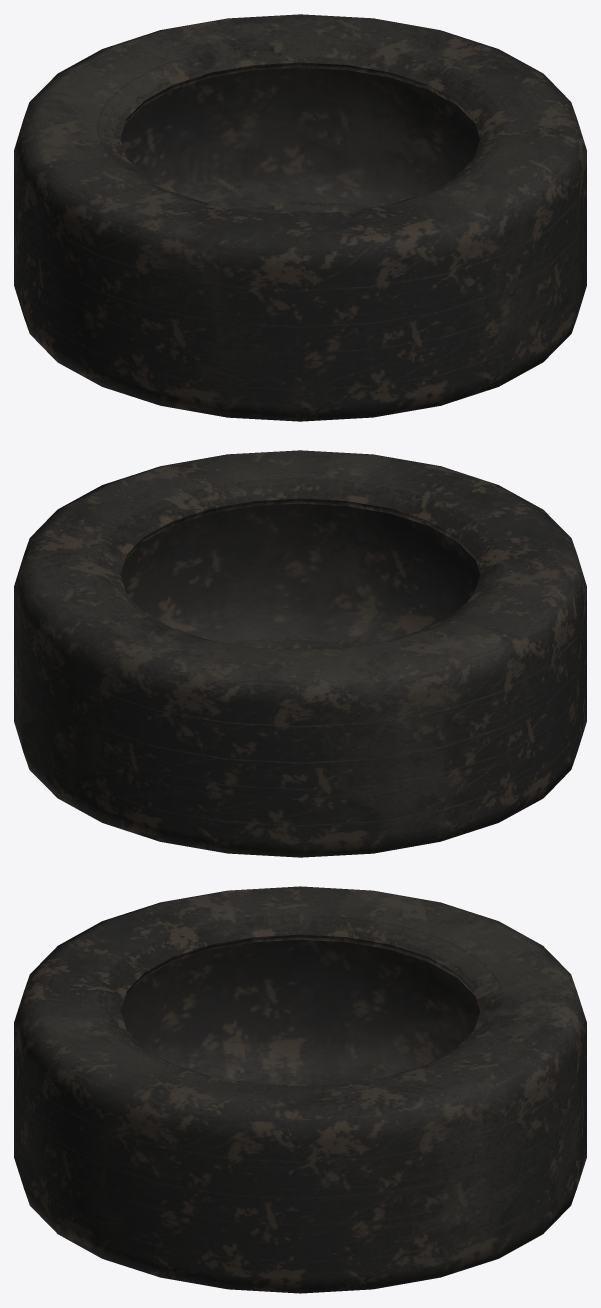
File: TrTireA1.fbx
3 views of the same model, one above another, from view 1: azimuth 30°, elevation 25°; view 2: azimuth 150°, elevation 25°; view 3: azimuth 270°, elevation 25° (orthographic).
Parts seen in each view (by area): view 1: TrTireA1_LOD0; view 2: TrTireA1_LOD0; view 3: TrTireA1_LOD0.
Part boxes in pixels (box(x1,y1,x2,y2)): TrTireA1_LOD0: box(14, 14, 586, 421); TrTireA1_LOD0: box(14, 450, 586, 857); TrTireA1_LOD0: box(14, 886, 586, 1293).
Size of what is drawn, in the model's own units: 66.3 by 23.55 by 66.3.
Materials: 1 (1 with a texture image).
